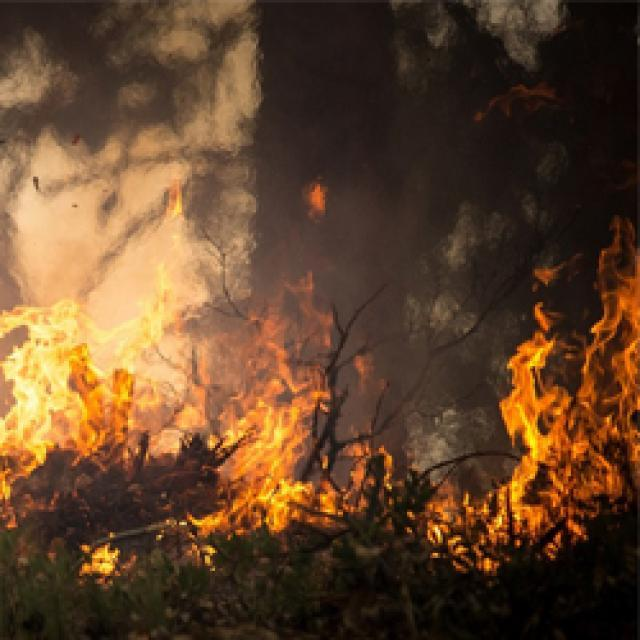Fire: (0, 225, 372, 568), (482, 180, 640, 598), (356, 432, 511, 575)
Smoke: (0, 0, 319, 298), (310, 0, 503, 418)
